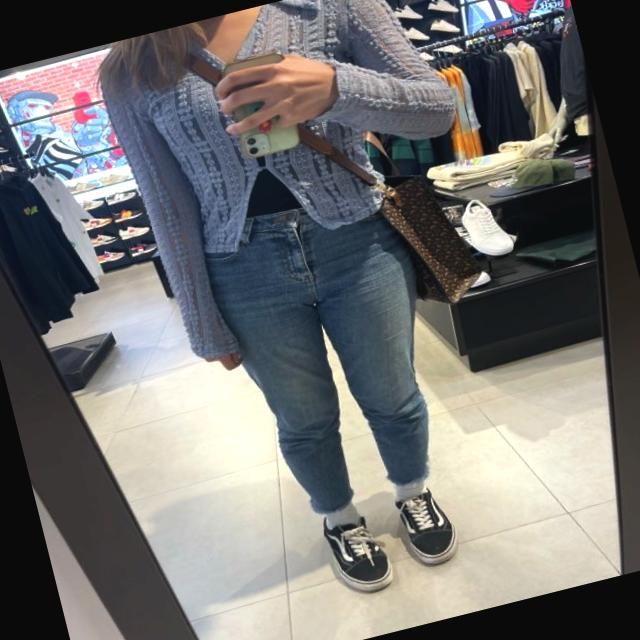cardigan: (92, 0, 498, 364)
denimpants: (185, 176, 462, 531)
